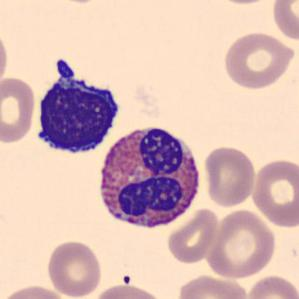Eosinophil: (91, 119, 206, 236)
Lymphocyte: (30, 53, 124, 161)
Platelets: (121, 273, 132, 285)
RBC: (204, 208, 278, 280), (221, 30, 297, 91), (202, 143, 257, 209), (44, 238, 104, 298), (250, 155, 298, 229), (164, 206, 220, 264), (0, 74, 38, 145), (175, 272, 248, 299), (245, 272, 298, 299), (269, 0, 299, 42), (93, 282, 164, 299), (1, 282, 68, 299), (0, 26, 11, 88), (208, 0, 278, 7), (51, 0, 107, 5)
